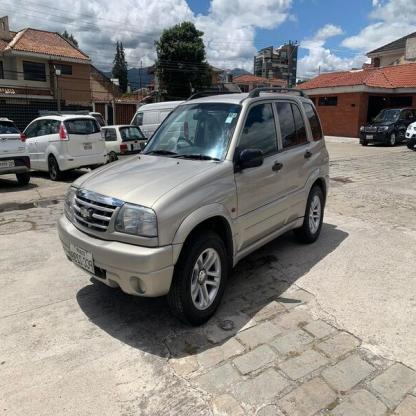Placa: (64, 242, 98, 282)
